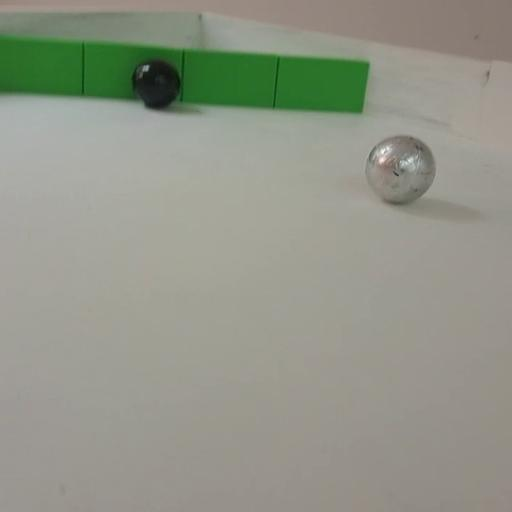alive: (362, 132, 438, 205)
dead: (131, 59, 181, 109)
